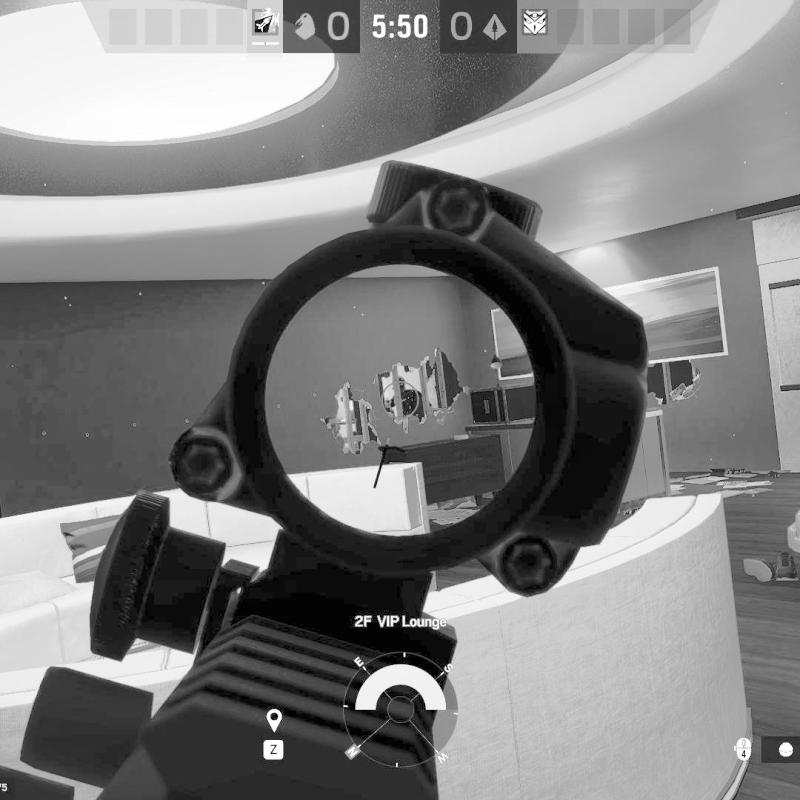Character: (387, 376, 436, 417)
Head: (392, 377, 407, 392)
